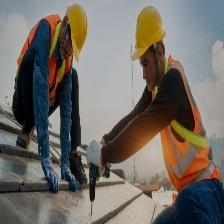Person: (138, 42, 223, 224), (16, 15, 82, 150)
helmet: (133, 8, 167, 47), (68, 1, 87, 66), (140, 44, 163, 68)
vest: (161, 56, 217, 189), (21, 17, 75, 94)
